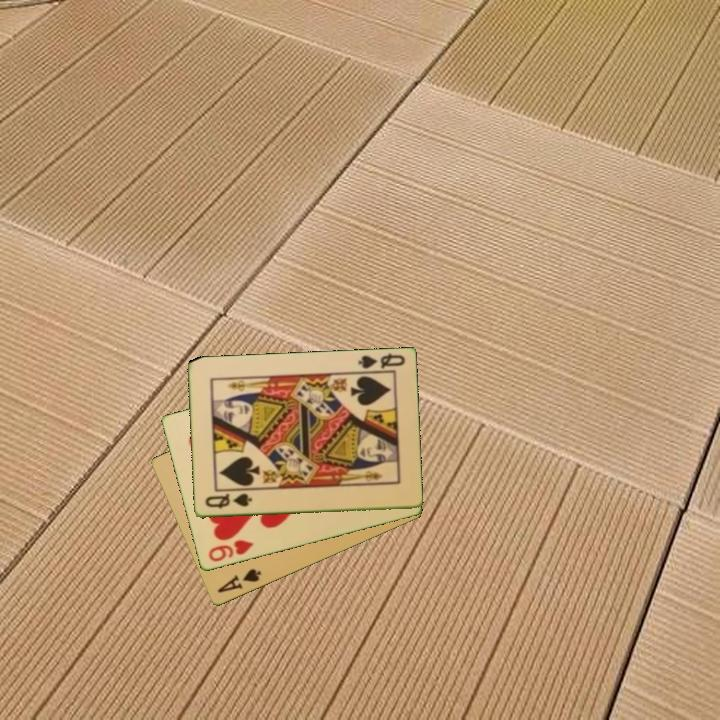9h: (205, 536, 256, 565)
As: (214, 565, 264, 596)
Qs: (354, 350, 407, 375), (201, 490, 254, 512)
